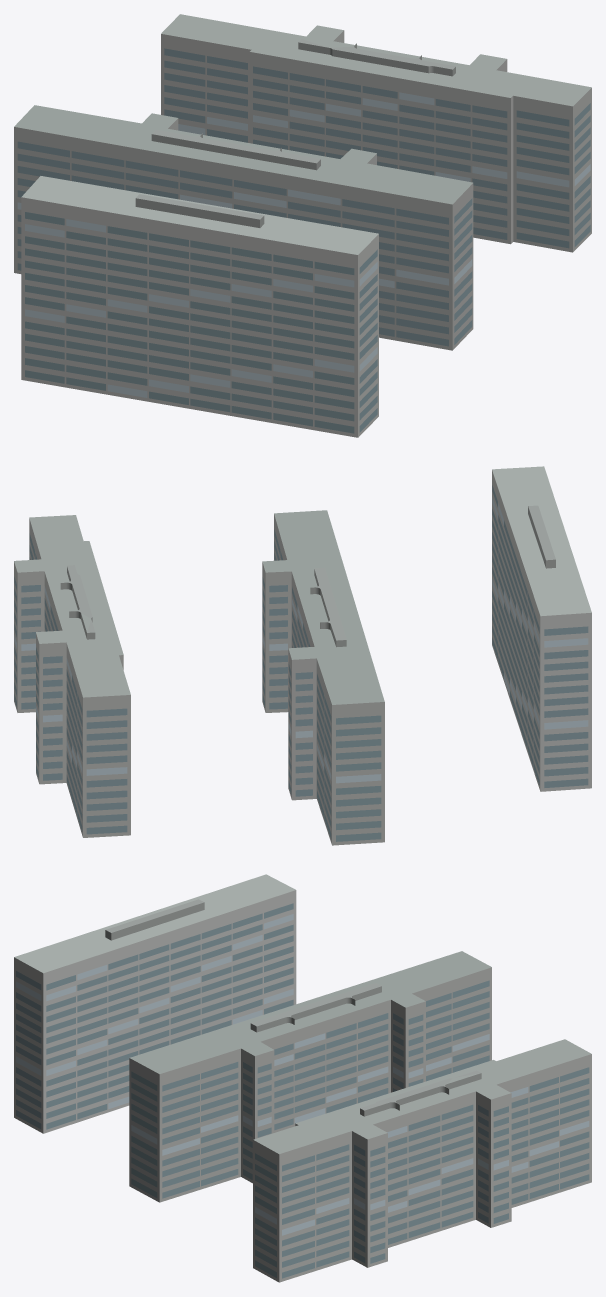
File: apt-a15088208.glb
The picture shows the model from 3 angles, top to bottom: view 1: azimuth 30°, elevation 25°; view 2: azimuth 150°, elevation 25°; view 3: azimuth 270°, elevation 25°; orthographic projection. The views are drawn at different scales.
Parts seen in each view (by area): view 1: apt-a15088208; view 2: apt-a15088208; view 3: apt-a15088208.
Part boxes in pixels (left/top/right/bottom): apt-a15088208: left=14, top=14, right=591, bottom=437; apt-a15088208: left=14, top=466, right=591, bottom=845; apt-a15088208: left=14, top=874, right=591, bottom=1282.
Size of the model in its own units: 142 by 45 by 140.
